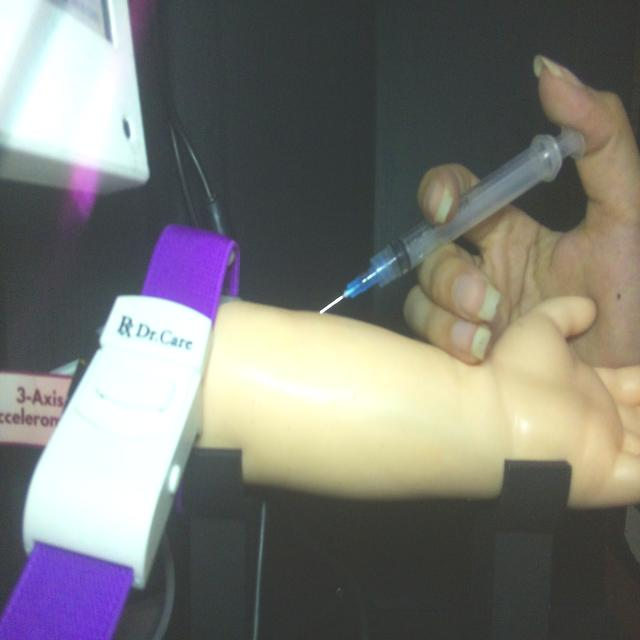23 degrees: (317, 122, 586, 317)
